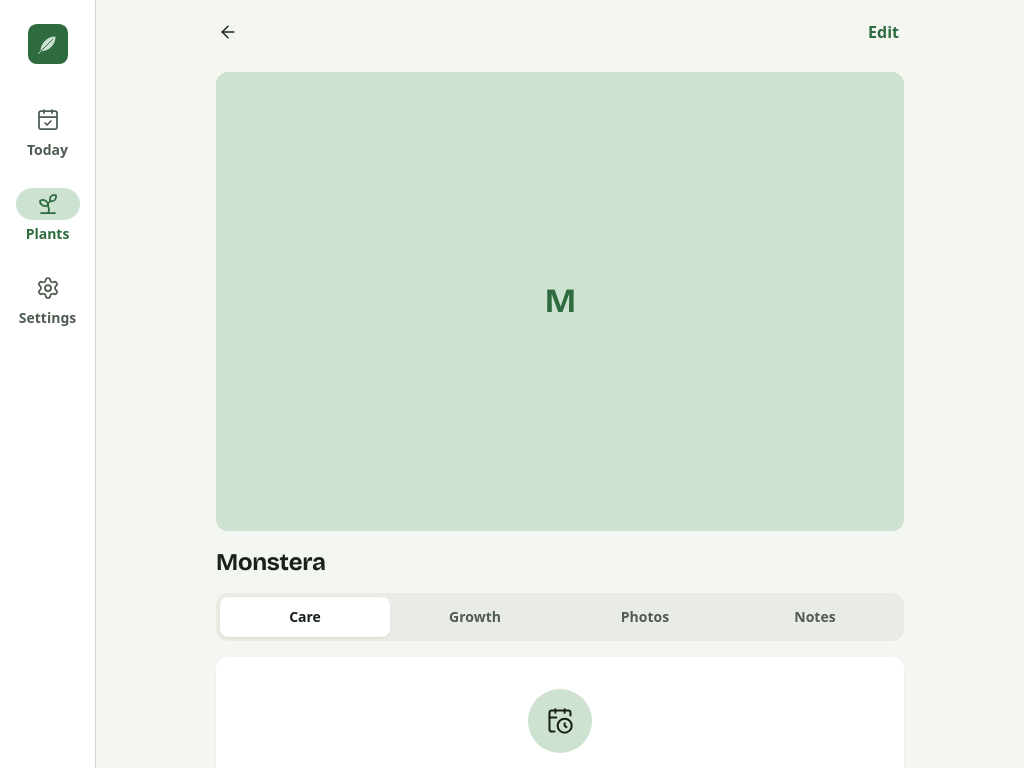
Scenario: Growth tab › leaves the chart out with fewer than two heights
The image size is (1024, 768).
Click the tab "Growth".
click(475, 617)  # box 390,597 -> 560,637
(page scrolled)
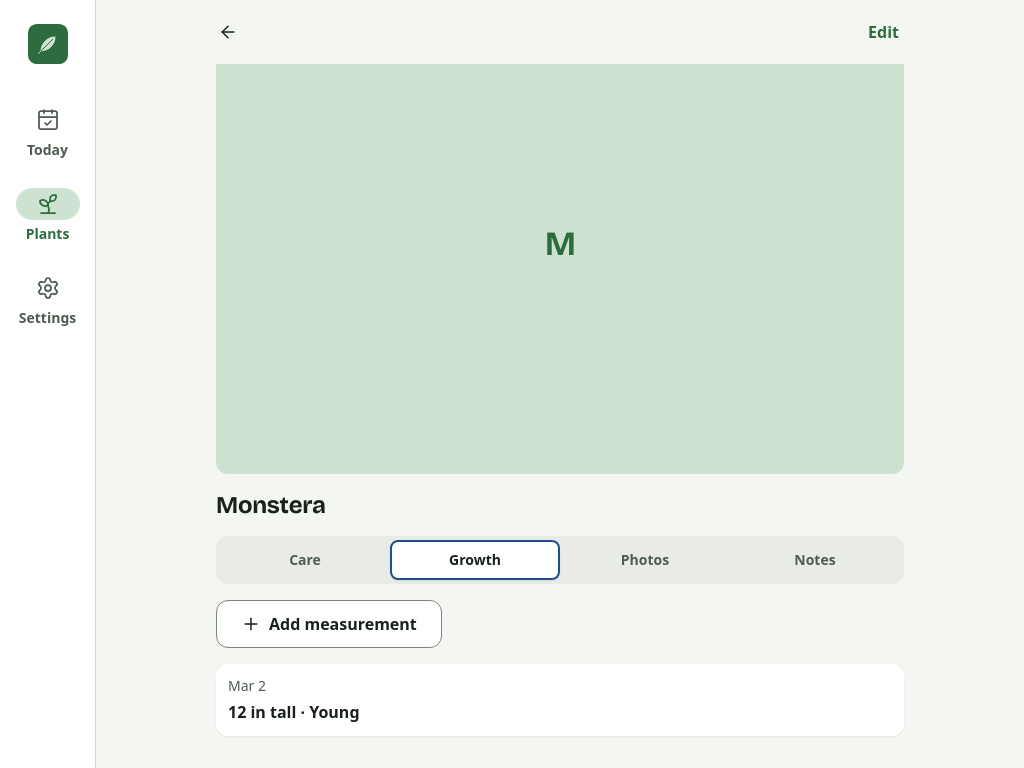
Expected: the text "12 in tall · Young" is shown, 228,700 -> 360,724
